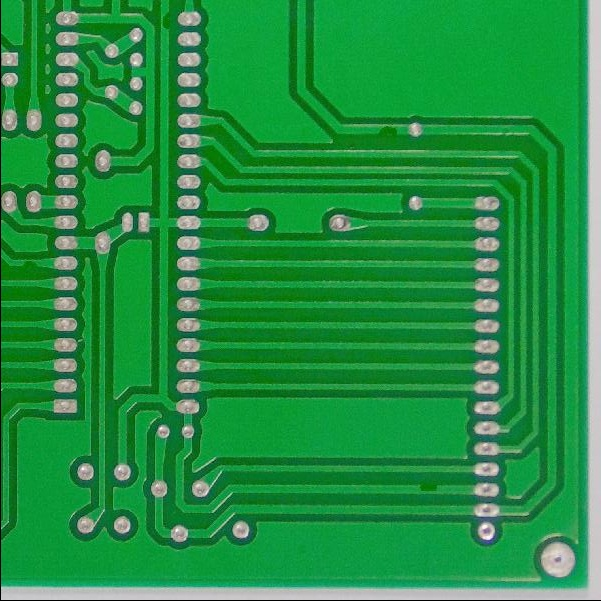mouse_bite: (412, 478, 441, 499), (374, 122, 400, 142), (154, 8, 174, 34), (17, 258, 40, 274)
